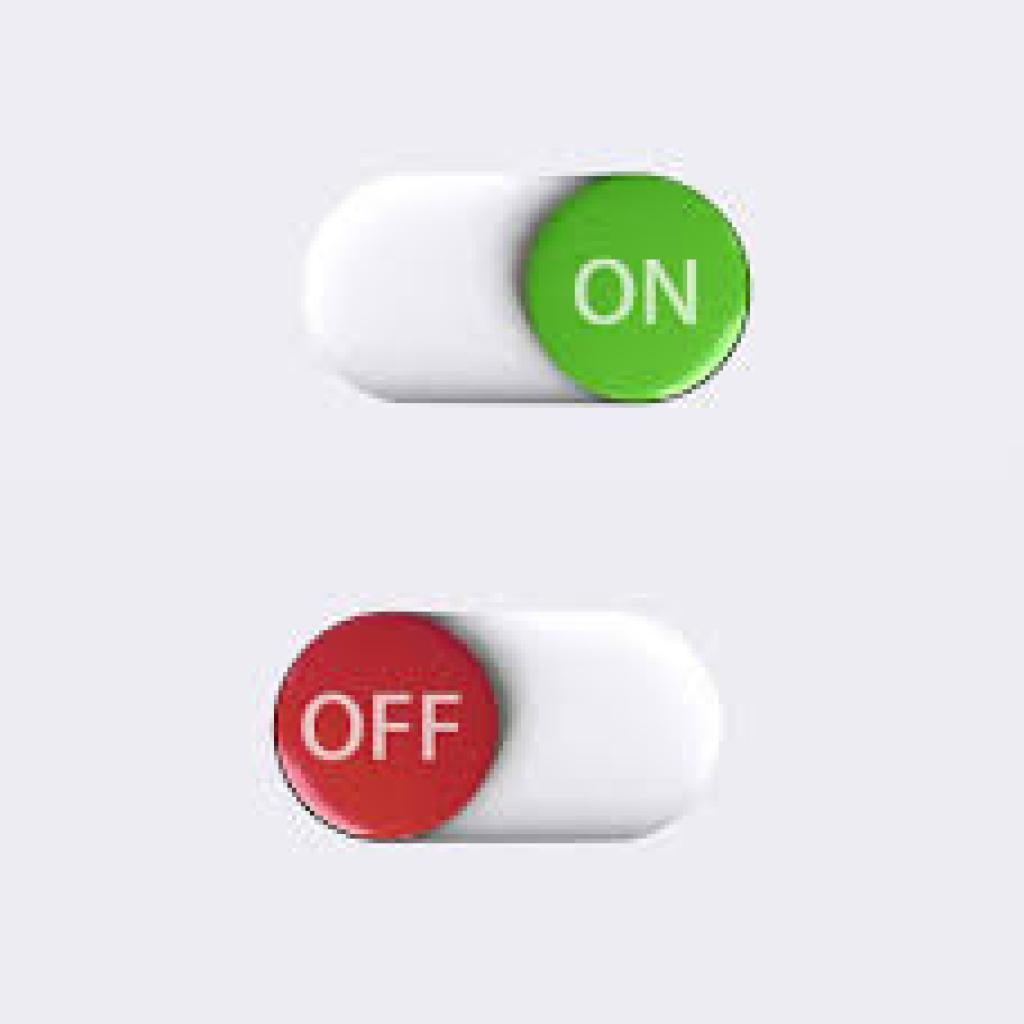switch: (285, 166, 753, 402), (269, 611, 729, 841)
